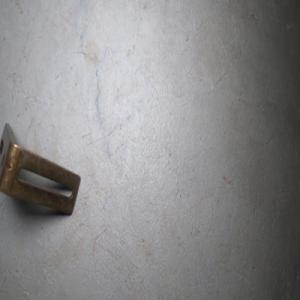MetalPart: (0, 121, 81, 216)
